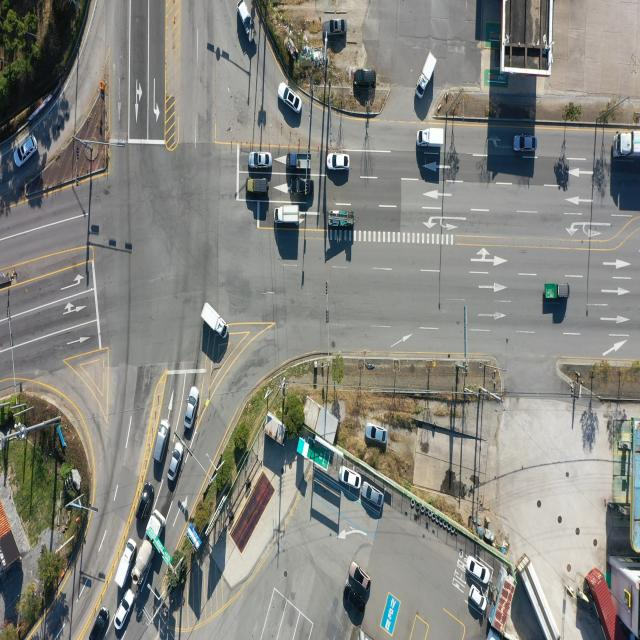car: (278, 80, 302, 116), (86, 607, 111, 640), (14, 135, 36, 168), (182, 386, 198, 431), (155, 419, 171, 464), (118, 592, 136, 632), (167, 441, 184, 481), (136, 486, 154, 522), (351, 561, 372, 590), (469, 558, 491, 584), (362, 484, 384, 509), (468, 586, 487, 612), (341, 466, 362, 488), (364, 423, 386, 443), (246, 177, 270, 195), (514, 136, 537, 154), (328, 152, 350, 170), (354, 68, 376, 86), (290, 182, 311, 199), (251, 151, 273, 167), (327, 20, 346, 36)
medium_truck: (522, 554, 563, 638), (130, 512, 164, 589), (615, 129, 640, 158)
small_truck: (117, 538, 138, 589), (202, 301, 227, 339), (417, 51, 437, 98), (235, 0, 254, 43), (328, 208, 356, 229), (418, 128, 444, 148), (543, 282, 569, 300), (274, 207, 300, 225), (285, 154, 311, 172)
